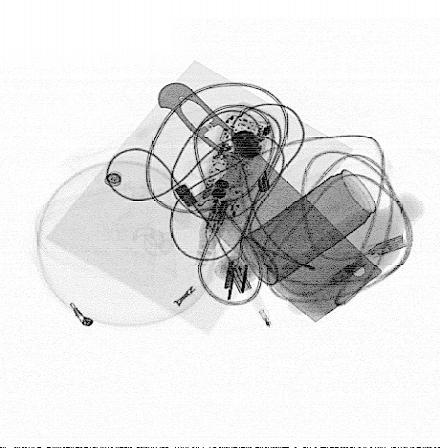Knife: (155, 81, 386, 324)
